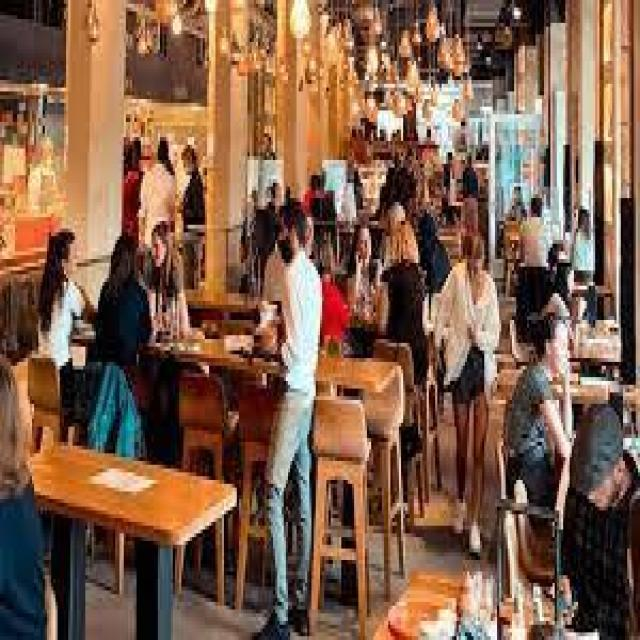person: (248, 191, 322, 636), (427, 225, 501, 568), (544, 385, 636, 636), (0, 343, 75, 632), (503, 301, 572, 545), (94, 217, 149, 492), (27, 202, 90, 430), (134, 202, 205, 377), (378, 217, 440, 389), (171, 118, 230, 282), (134, 126, 197, 274), (342, 202, 391, 358), (508, 175, 557, 297), (450, 130, 489, 270), (565, 190, 608, 308)
